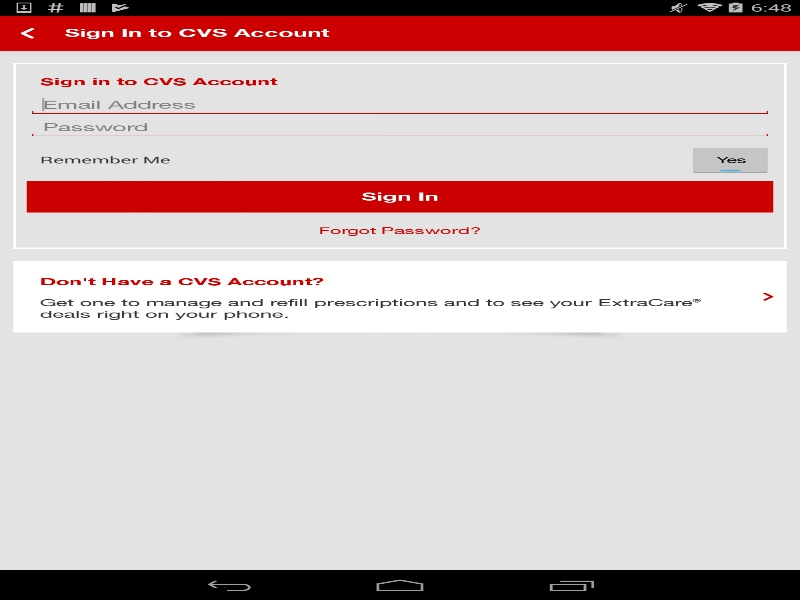Button: (26, 181, 773, 212)
Input: (26, 93, 773, 116), (26, 116, 773, 138)
